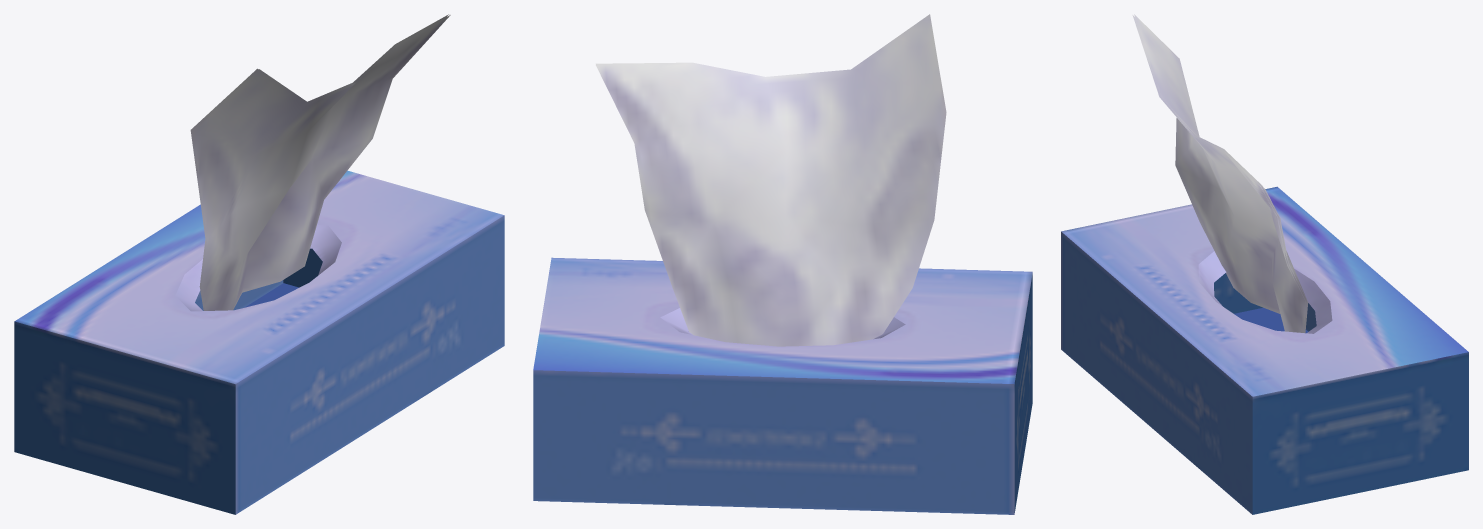
File: ZhiBanShi_01_zhichouhe_01.FBX
The picture shows the model from 3 angles, left to right: view 1: azimuth 30°, elevation 25°; view 2: azimuth 150°, elevation 25°; view 3: azimuth 270°, elevation 25°; orthographic projection. The views are drawn at different scales.
Parts seen in each view (by area): view 1: ZhiBanShi_zhichouhe_01; view 2: ZhiBanShi_zhichouhe_01; view 3: ZhiBanShi_zhichouhe_01.
Part boxes in pixels (x1=…): ZhiBanShi_zhichouhe_01: x1=14, y1=14, x2=504, y2=514; ZhiBanShi_zhichouhe_01: x1=533, y1=14, x2=1032, y2=514; ZhiBanShi_zhichouhe_01: x1=1061, y1=14, x2=1468, y2=514.
Size of the model in its own units: 134 by 108 by 110.
